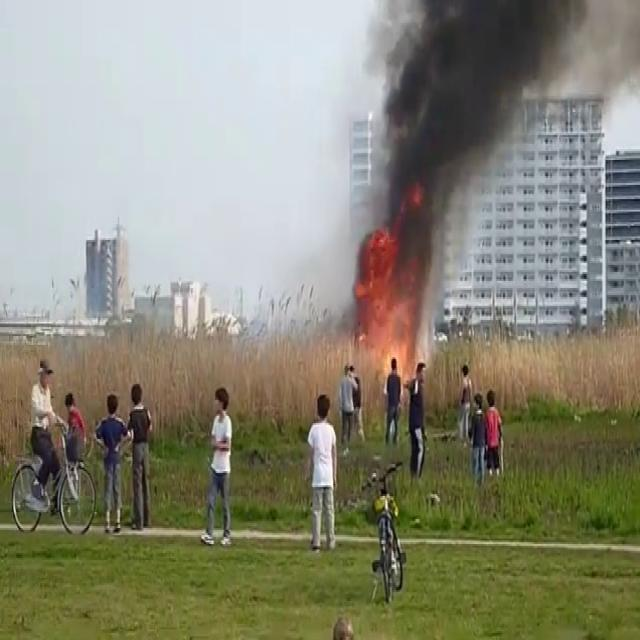Fire: (340, 228, 424, 382)
Smoke: (350, 0, 558, 302)
